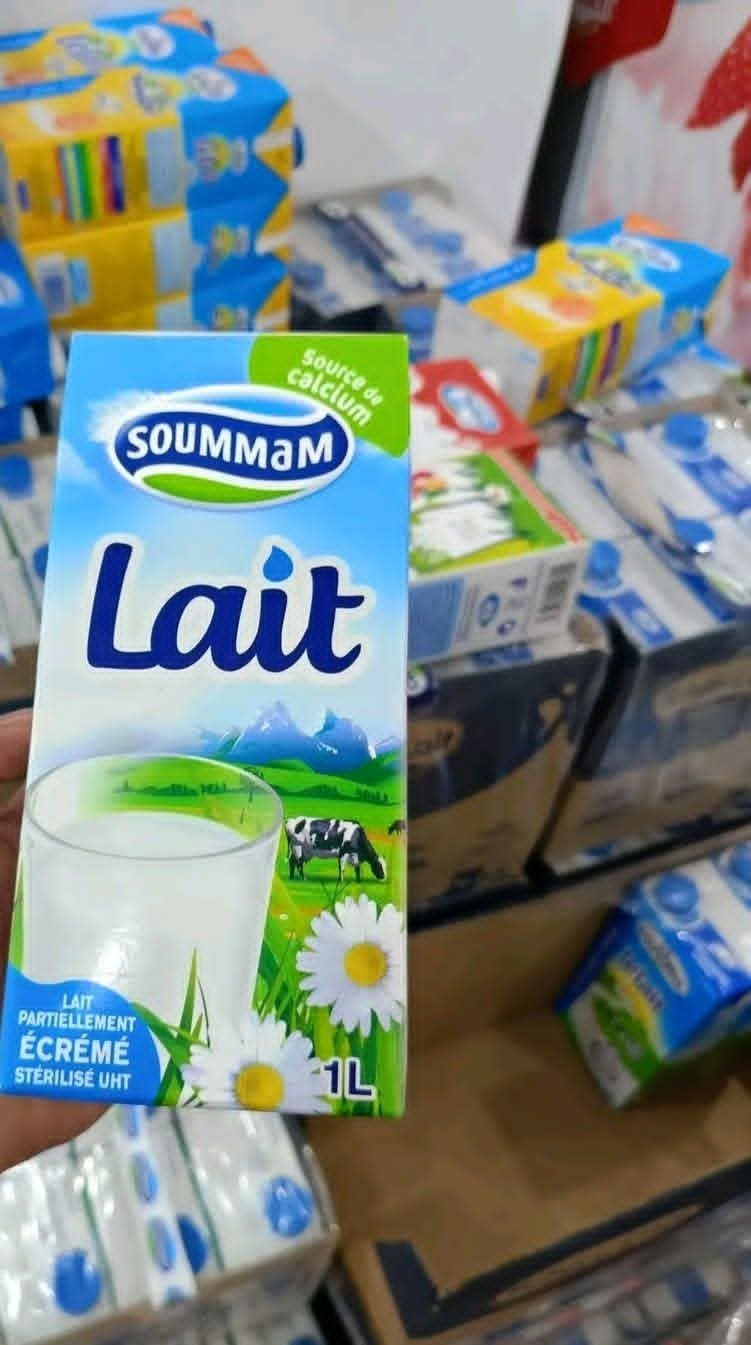soummam_milk: (1, 314, 421, 1140)
